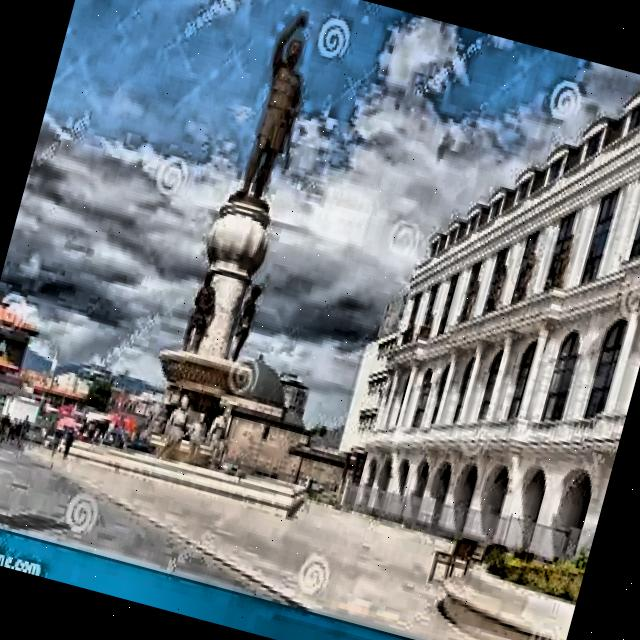Philip II of Macedonia: (132, 0, 350, 482)
